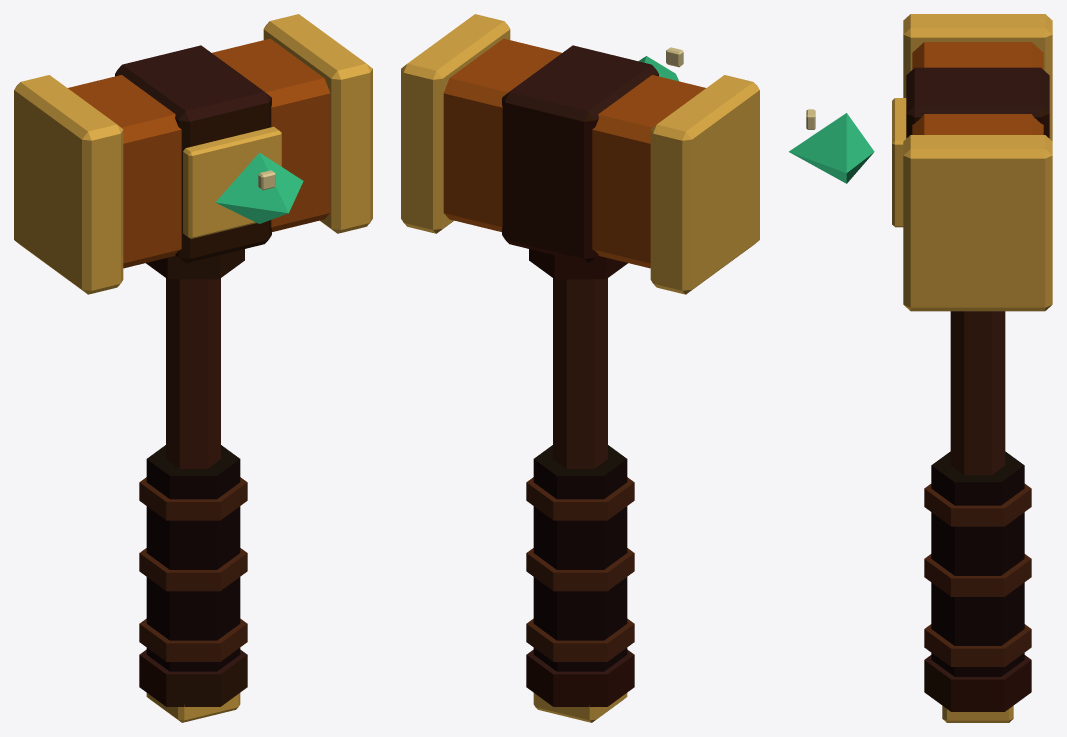
The model's file is hammer-gold.glb.
The picture shows the model from 3 angles, left to right: view 1: azimuth 30°, elevation 25°; view 2: azimuth 150°, elevation 25°; view 3: azimuth 270°, elevation 25°; orthographic projection.
Bounding box in the file's own units: 0.56 × 1.16 × 0.4428.
